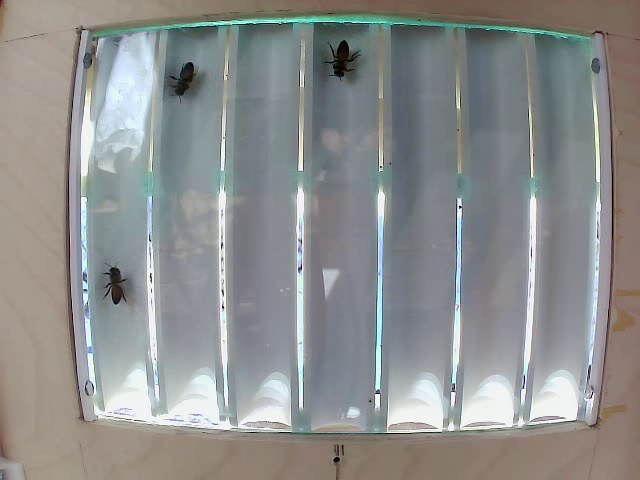bee: (92, 258, 140, 314), (159, 55, 207, 104), (316, 28, 353, 88)
